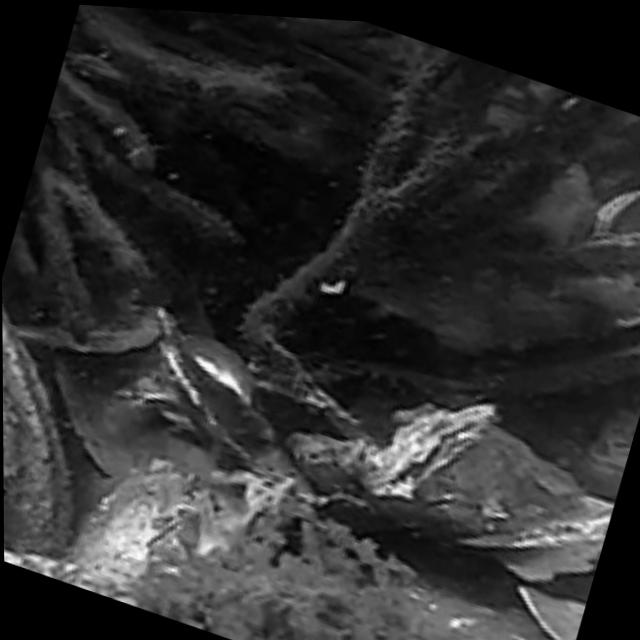Oyster-Closed: (2, 304, 77, 557), (358, 408, 496, 496)
Oyster-Indeterminate: (64, 466, 209, 589)
Oyster-Open: (292, 245, 640, 403)
